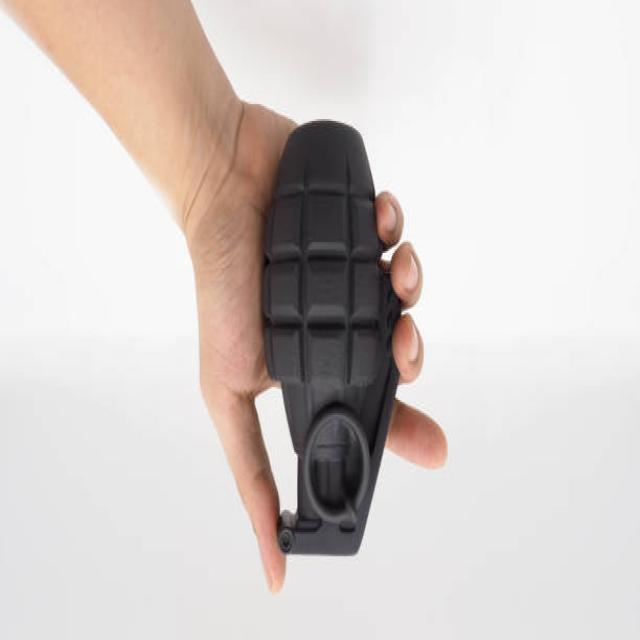grenade: (264, 119, 405, 563)
